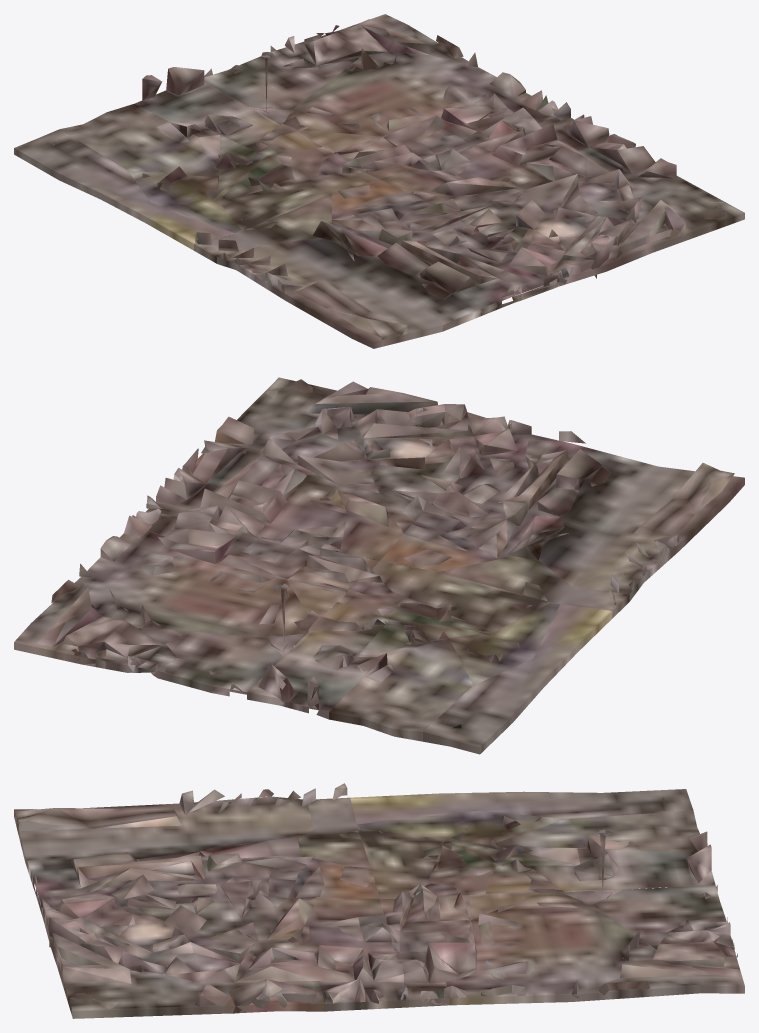
3 renders of one model, top to bottom at view 1: azimuth 30°, elevation 25°; view 2: azimuth 150°, elevation 25°; view 3: azimuth 270°, elevation 25°, orthographic. The views are drawn at different scales.
Visible parts, largest first — view 1: Mesh_0; view 2: Mesh_0; view 3: Mesh_0.
Part boxes in pixels (left/top/right/bottom): Mesh_0: left=14, top=14, right=744, bottom=348; Mesh_0: left=14, top=377, right=744, bottom=754; Mesh_0: left=14, top=783, right=744, bottom=1018.
Bounding box in the file's own units: 1065 × 168 × 1318.
Materials: 1 (1 with a texture image).
